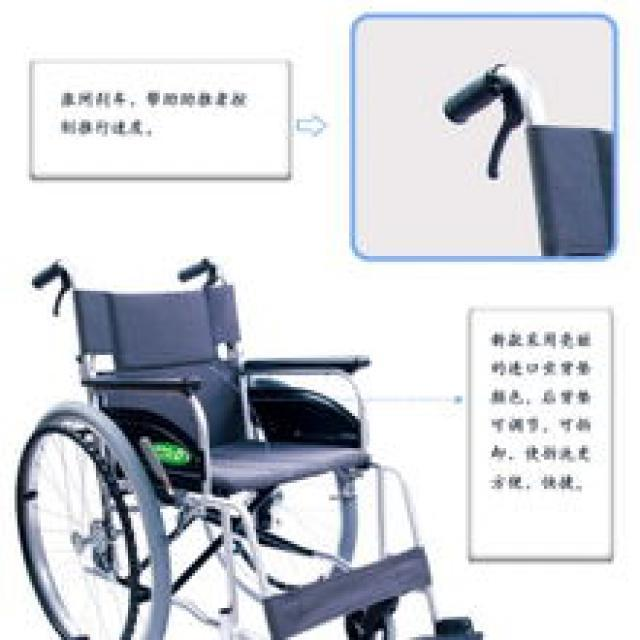wheelchair: (0, 247, 486, 637)
